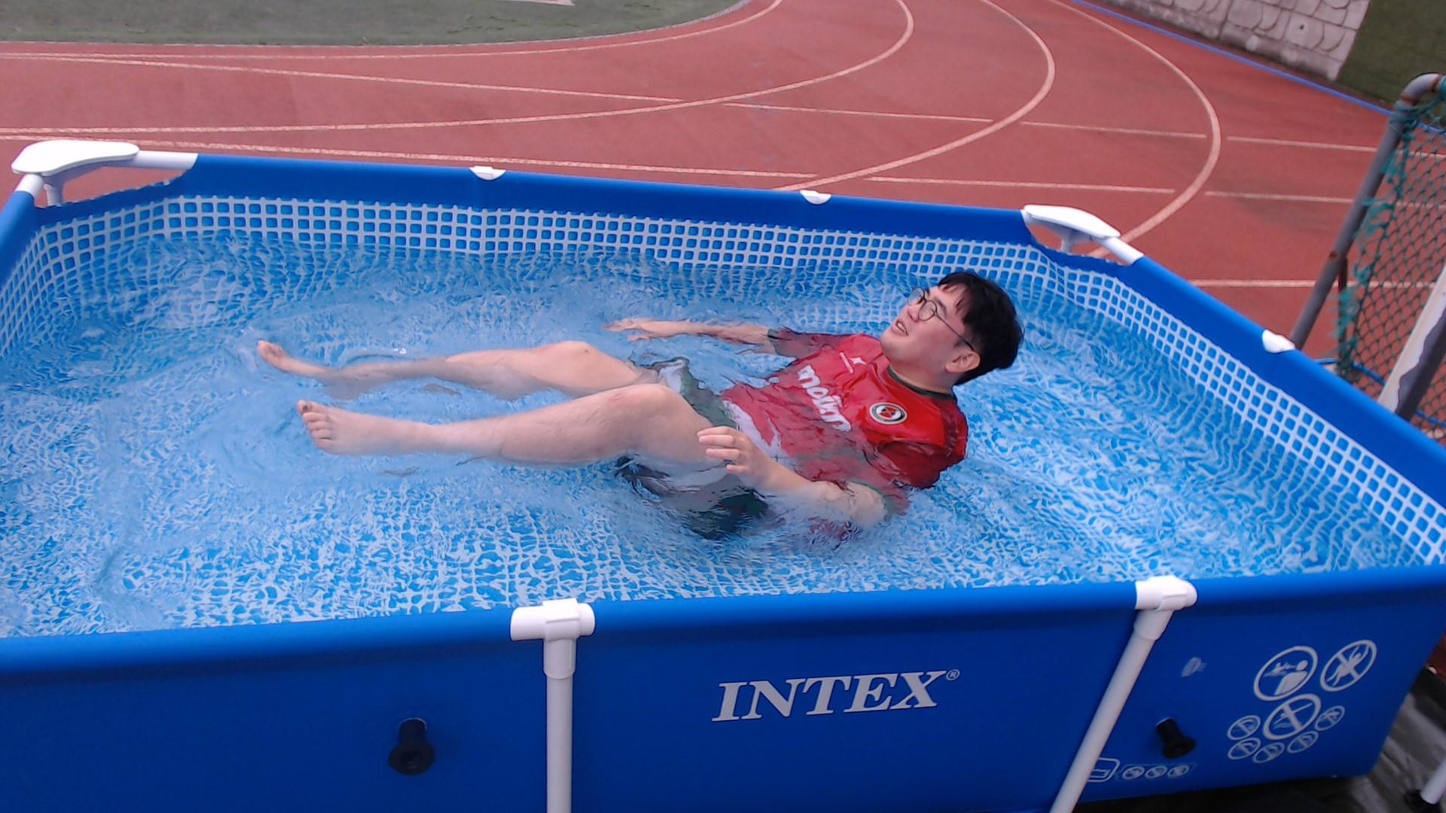Swimming: (256, 167, 1067, 552)
